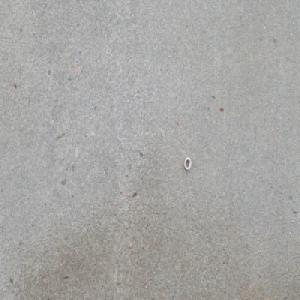Nut: (183, 157, 191, 171)
